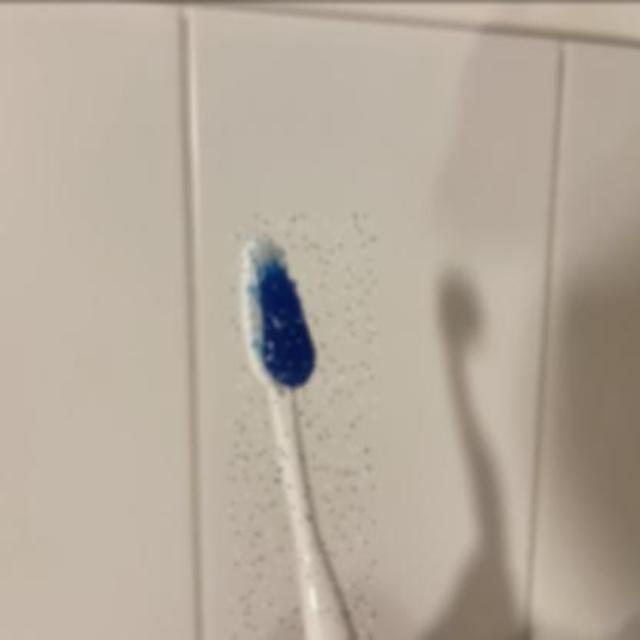toothbrush: (229, 212, 375, 640)
